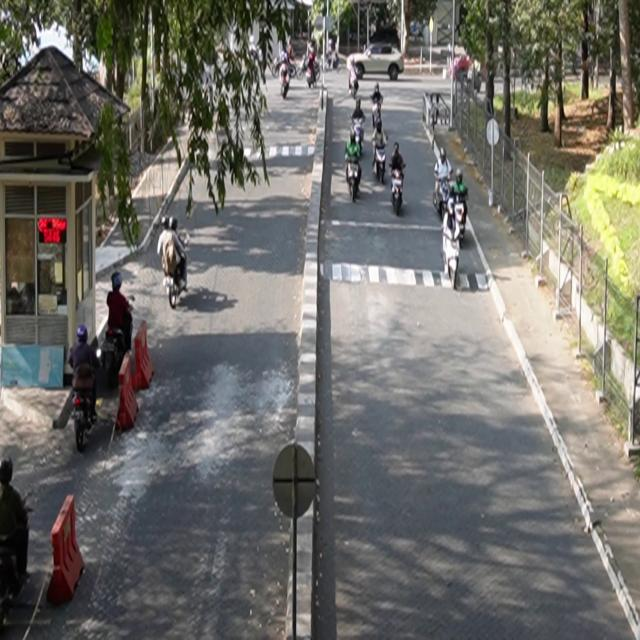car: (348, 44, 405, 82)
